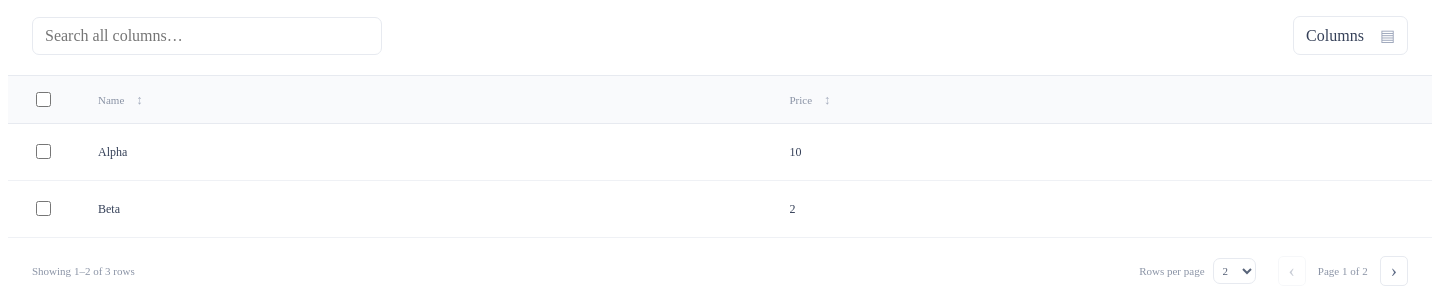
hides optional columns but retains the required column
Later steps or results of the test are not shown.
Click the heading "Columns ▤": click(1351, 36) [1293,16,1408,55]
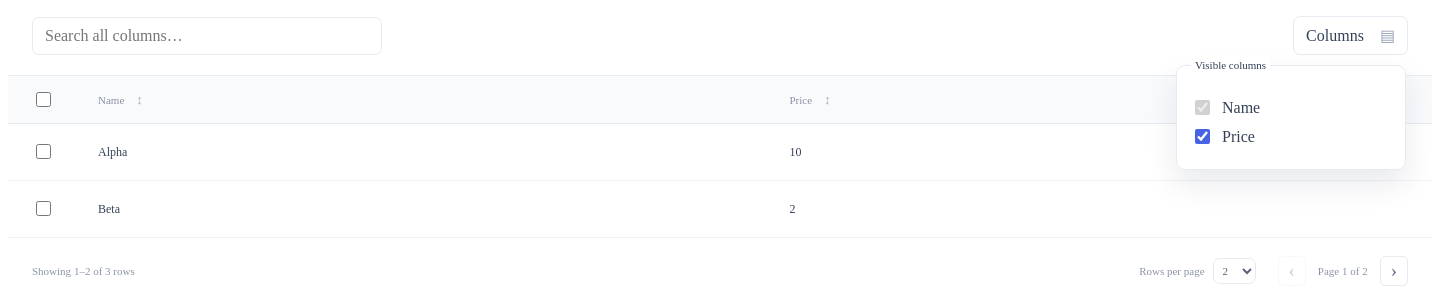
Now the checkbox labelled "Name" is disabled, box [1195,100,1210,115]
